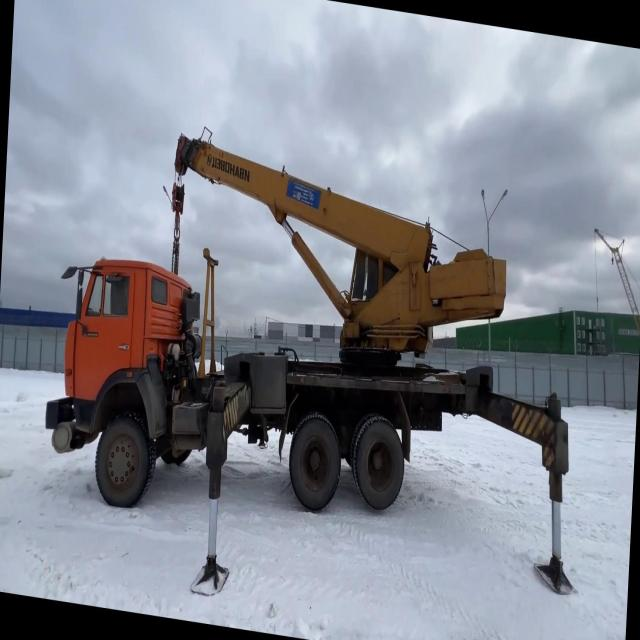crane: (37, 99, 595, 640)
